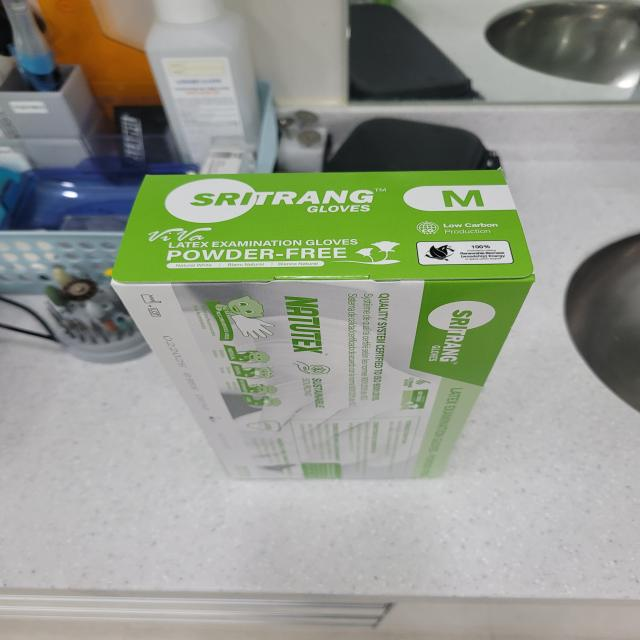glove: (103, 149, 534, 507)
